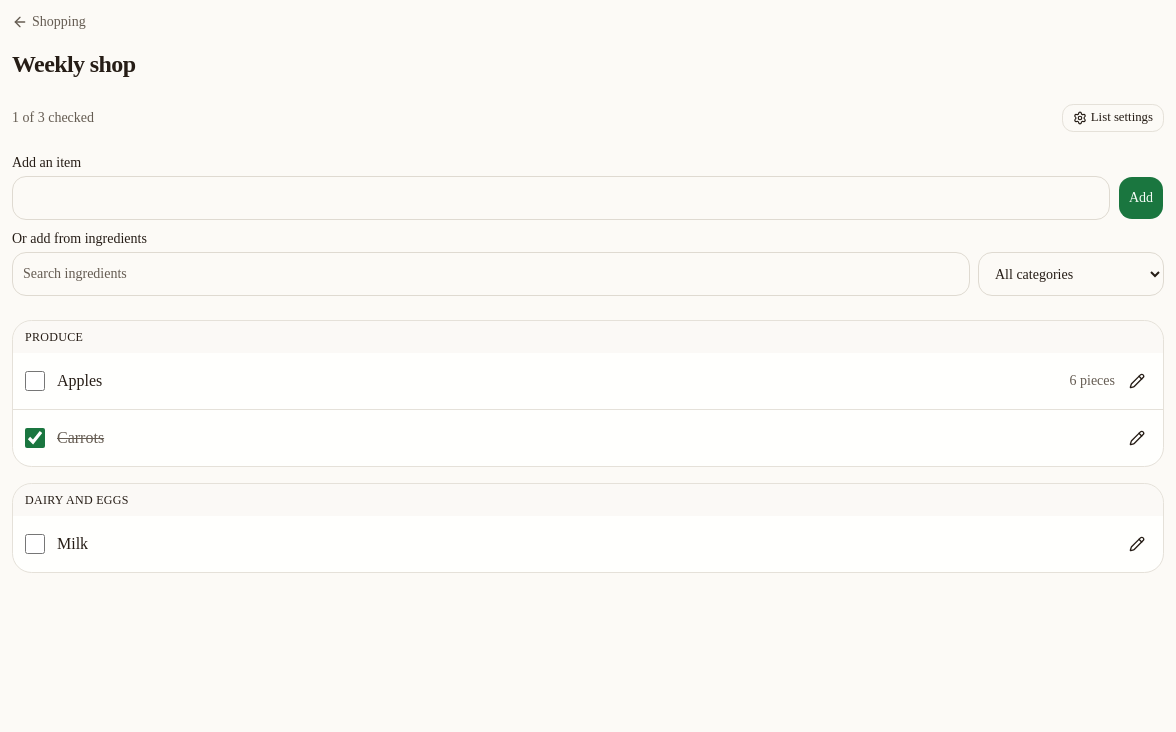
Test: checking items off › ticks at once and tells the API only that it is checked, with no version
Click the checkbox labelled "Apples 6 pieces".
click(35, 381)  # box top-left (25, 371), bottom-right (45, 391)
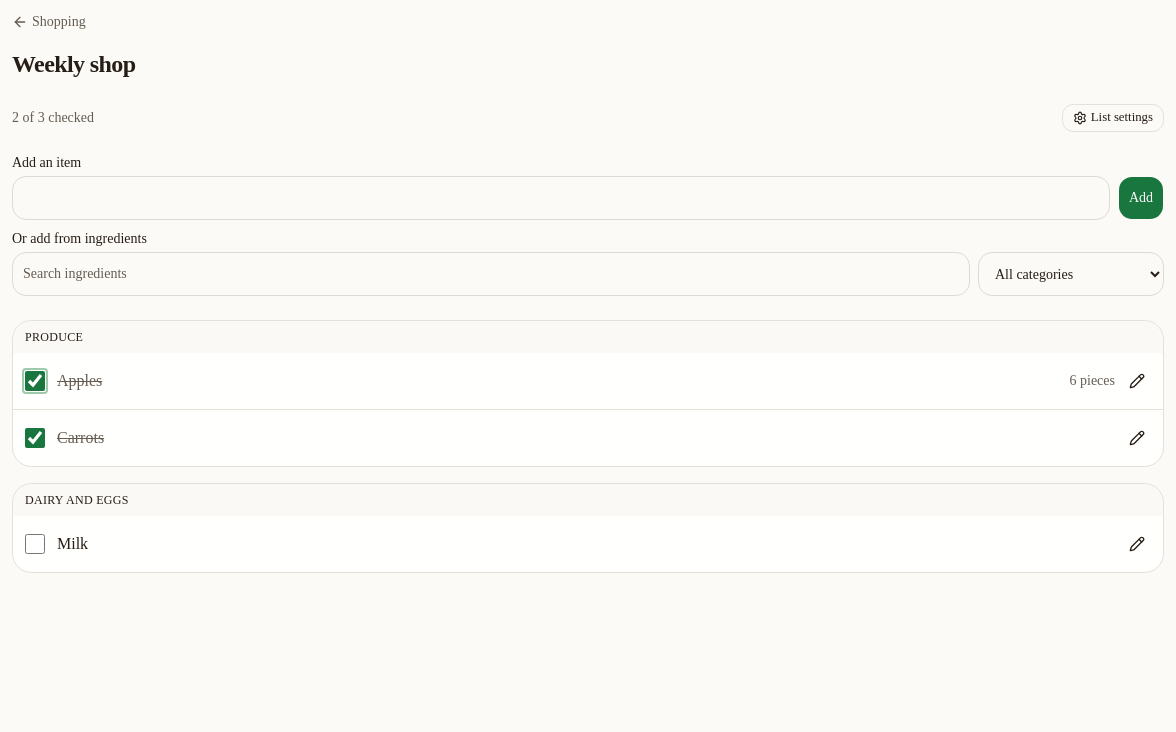
Now the checkbox labelled "Apples 6 pieces" is checked, box top-left (25, 371), bottom-right (45, 391)
Now the text "2 of 3 checked" is shown, box top-left (12, 108), bottom-right (94, 128)
